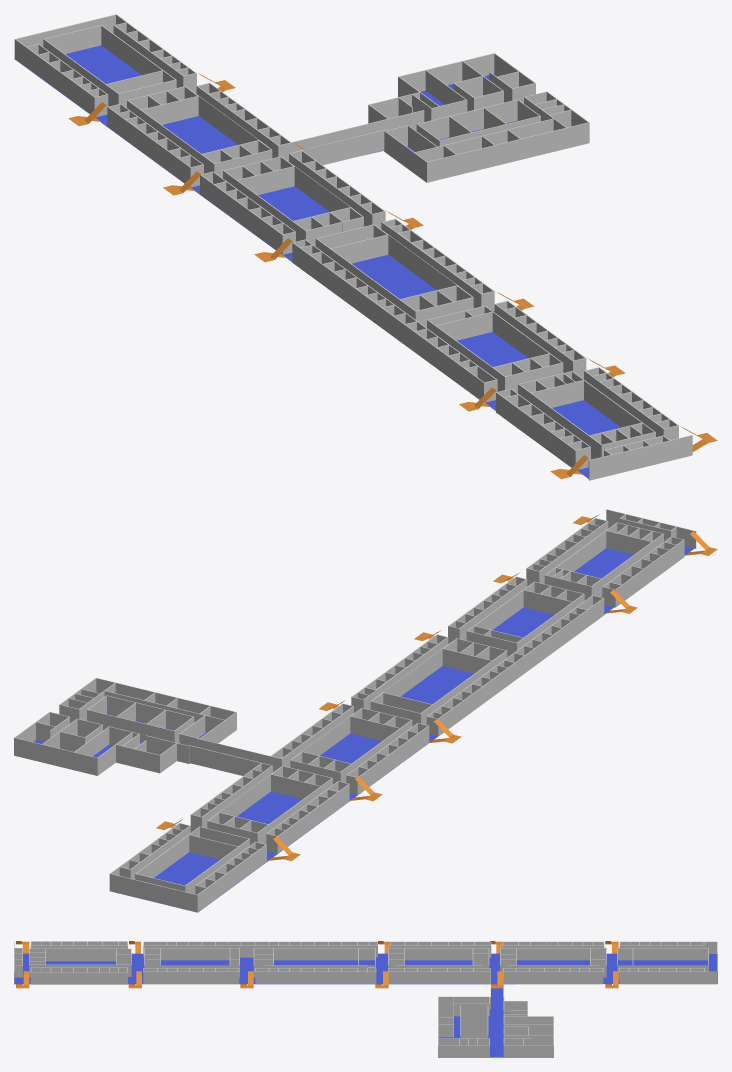
Rendered from piani2.fbx.
3 renders of one model, top to bottom at view 1: azimuth 30°, elevation 25°; view 2: azimuth 150°, elevation 25°; view 3: azimuth 270°, elevation 25°, orthographic. The views are drawn at different scales.
Parts seen in each view (by area): view 1: FP2.walls, F3P2.walls, FP2.floor; view 2: FP2.walls, F3P2.walls, FP2.floor; view 3: FP2.walls, FP2.floor, F3P2.walls, F3P2.floor.
Boxes of the visible parts, x1,y1,x2,y2 form: FP2.walls: (14,14,692,480); F3P2.walls: (368,53,589,182); FP2.floor: (14,45,717,478); FP2.walls: (109,509,696,912); F3P2.walls: (14,678,236,775); FP2.floor: (111,514,717,912); FP2.walls: (14,941,717,1009); FP2.floor: (14,941,717,1008); F3P2.walls: (438,996,553,1057); F3P2.floor: (438,1009,510,1057).
Size of the model in its own units: 831 by 49.45 by 2215.
